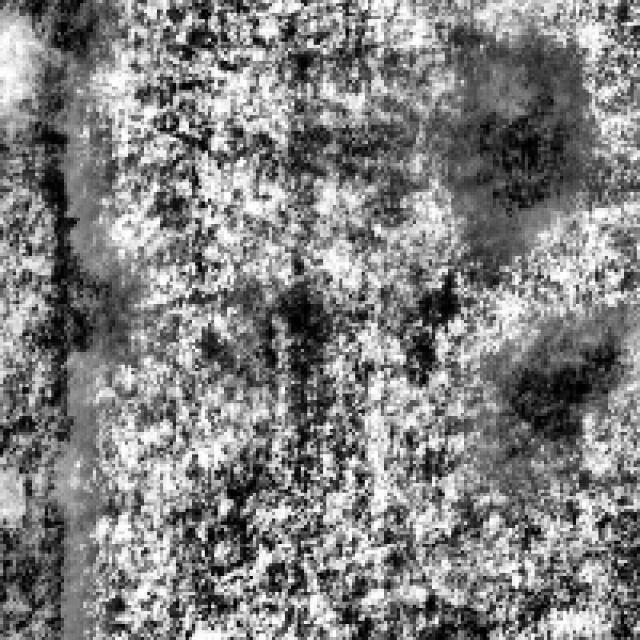Scratches: (0, 41, 115, 636), (429, 29, 589, 240), (492, 304, 630, 451)
